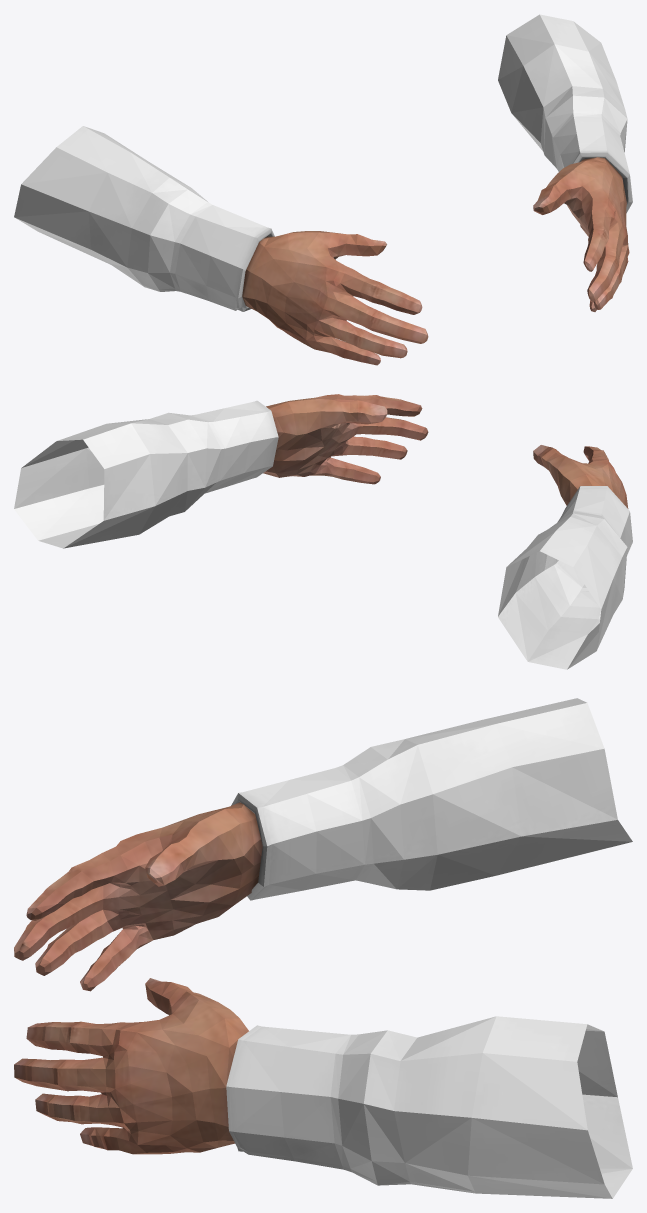
The model's file is PlayerHands.obj.
3 views of the same model, one above another, from view 1: azimuth 30°, elevation 25°; view 2: azimuth 150°, elevation 25°; view 3: azimuth 270°, elevation 25° (orthographic). The views are drawn at different scales.
Parts seen in each view (by area): view 1: PlayerHands_3, PlayerHands_2; view 2: PlayerHands_3, PlayerHands_2; view 3: PlayerHands_3, PlayerHands_2.
Part boxes in pixels (x1,y1,x2,y2): PlayerHands_3: (14, 14, 632, 311); PlayerHands_2: (242, 157, 629, 365); PlayerHands_3: (14, 400, 632, 669); PlayerHands_2: (263, 394, 628, 508); PlayerHands_3: (226, 698, 632, 1198); PlayerHands_2: (14, 801, 263, 1154).
Size of the model in its own units: 0.6072 by 0.141 by 0.3873.
Materials: 2 (2 with a texture image).
